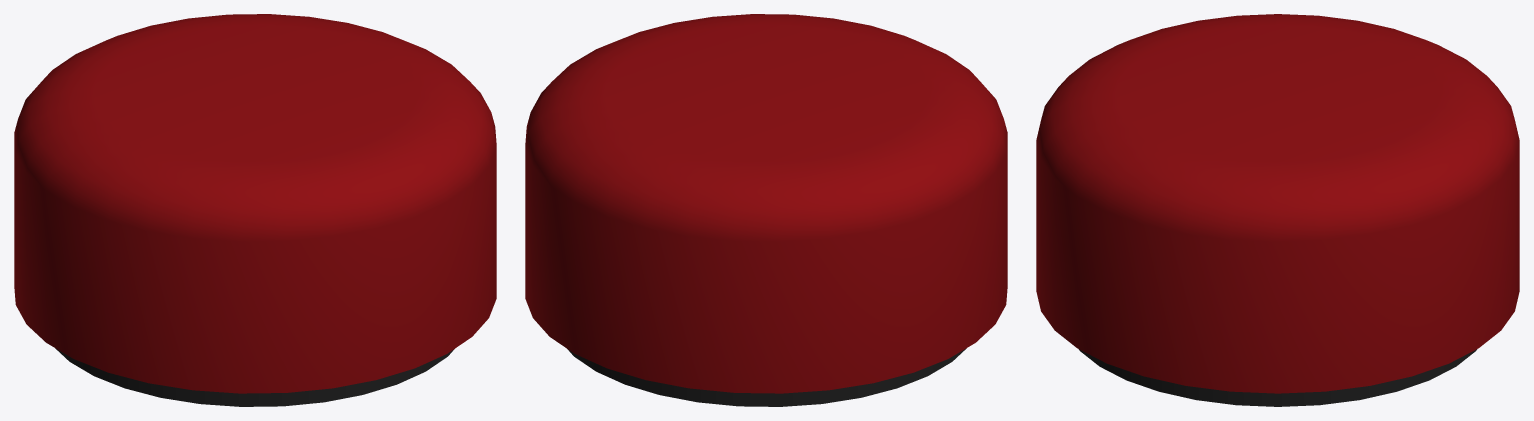
Rendered from звонок.fbx.
The picture shows the model from 3 angles, left to right: view 1: azimuth 30°, elevation 25°; view 2: azimuth 150°, elevation 25°; view 3: azimuth 270°, elevation 25°; orthographic projection.
Visible parts, largest first — view 1: Cylinder; view 2: Cylinder; view 3: Cylinder.
Part boxes in pixels (x1,y1,x2,y2): Cylinder: [14, 14, 496, 406]; Cylinder: [525, 14, 1007, 406]; Cylinder: [1036, 14, 1519, 406].
Size of the model in its own units: 200 by 102 by 200.
